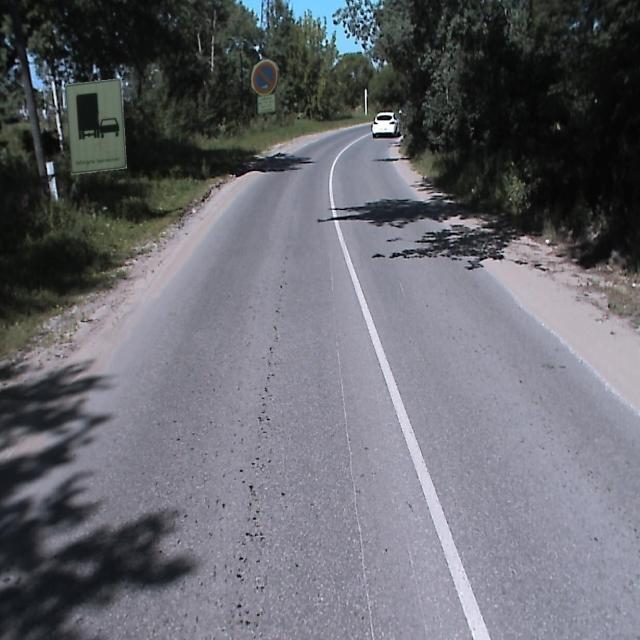road: (0, 123, 639, 639)
